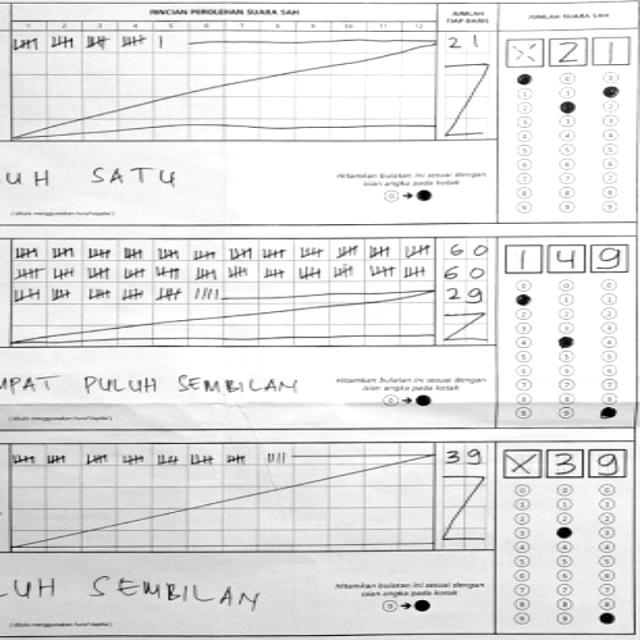Suara: (496, 238, 633, 278), (493, 34, 633, 71), (500, 445, 624, 482)
